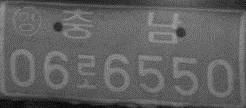0: (8, 47, 37, 88), (206, 57, 234, 98)
5: (137, 54, 165, 94), (171, 56, 198, 97)
6: (102, 52, 132, 94), (42, 49, 70, 91)
로: (75, 53, 97, 90)
영: (11, 5, 43, 38)
충남_D: (61, 7, 181, 44)
